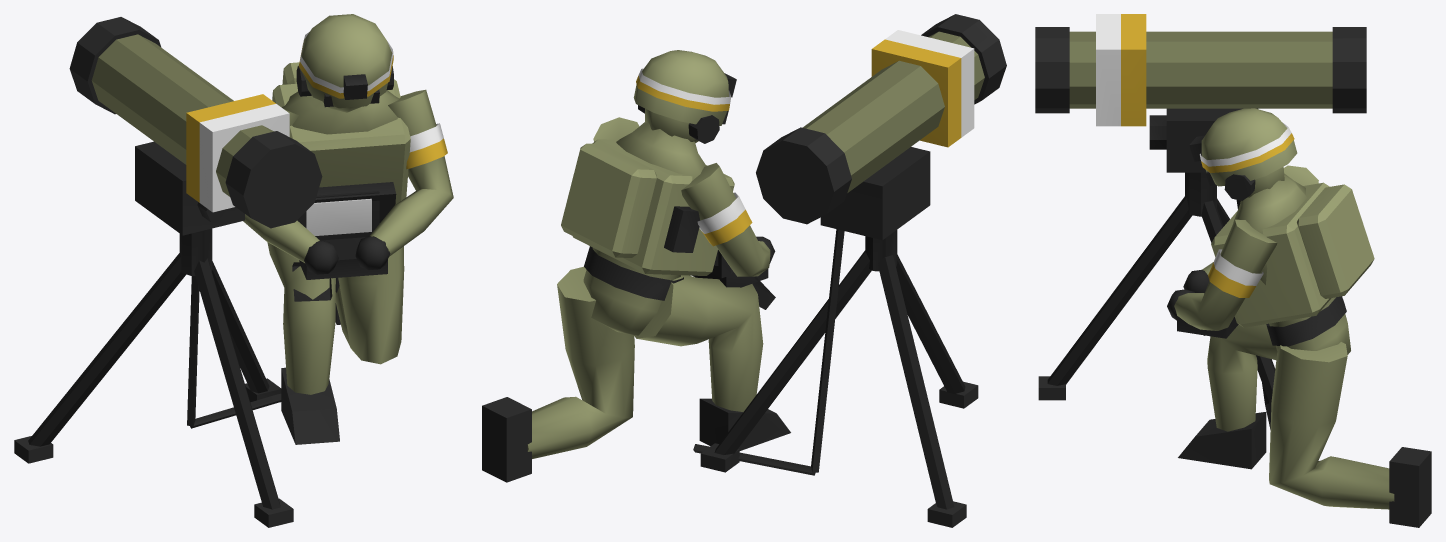
Rendered from ua-stugna-team.glb.
The picture shows the model from 3 angles, left to right: view 1: azimuth 30°, elevation 25°; view 2: azimuth 150°, elevation 25°; view 3: azimuth 270°, elevation 25°; orthographic projection. The views are drawn at different scales.
Parts seen in each view (by area): view 1: ua-stugna-team; view 2: ua-stugna-team; view 3: ua-stugna-team.
Boxes of the visible parts, <box> form: ua-stugna-team: <box>14,14,453,527</box>; ua-stugna-team: <box>482,14,1006,527</box>; ua-stugna-team: <box>1035,14,1431,527</box>.
Bounding box in the file's own units: 0.3989 × 0.3525 × 0.3468.
